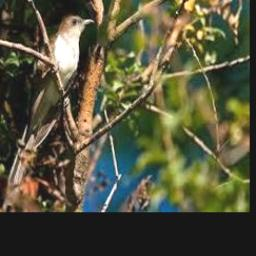Cuckoo: (7, 15, 94, 189)
